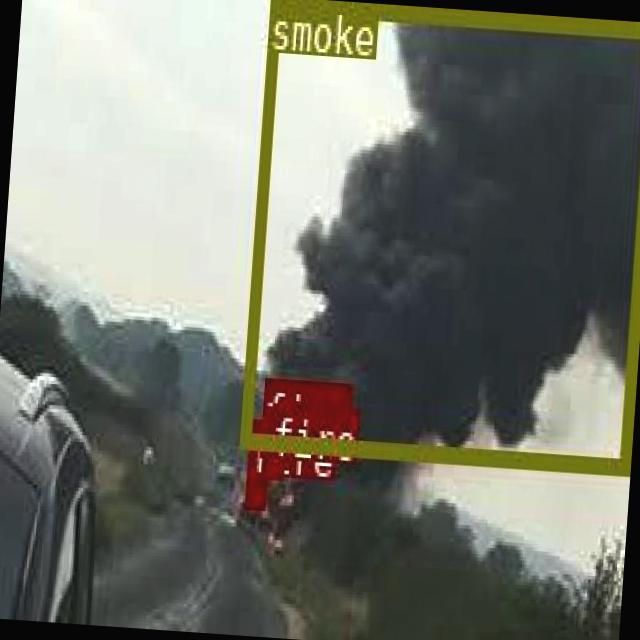fire: (242, 473, 264, 504), (258, 433, 280, 452), (266, 456, 280, 474)
smoke: (237, 0, 640, 469)
